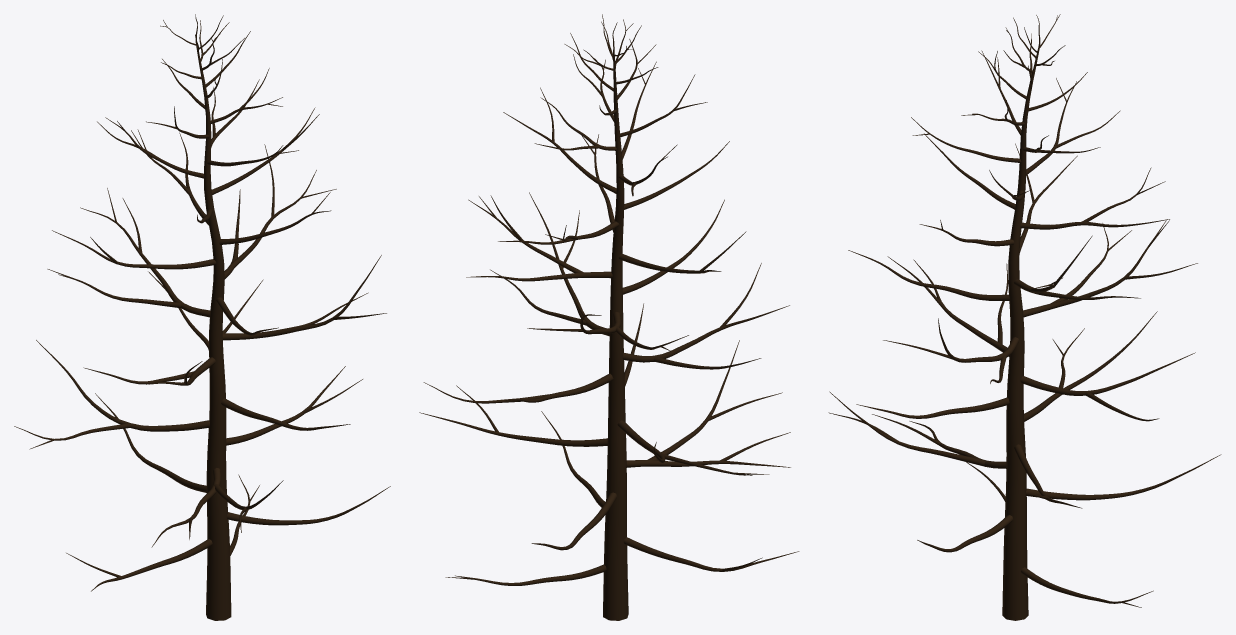
The model's file is tree.fbx.
3 views of the same model, side by side, from view 1: azimuth 30°, elevation 25°; view 2: azimuth 150°, elevation 25°; view 3: azimuth 270°, elevation 25° (orthographic).
Visible parts, largest first — view 1: tree; view 2: tree; view 3: tree.
Part boxes in pixels (x1,y1,x2,y2): tree: [14, 14, 390, 620]; tree: [419, 14, 799, 620]; tree: [828, 14, 1221, 620].
Bounding box in the file's own units: 286 × 492 × 295.
